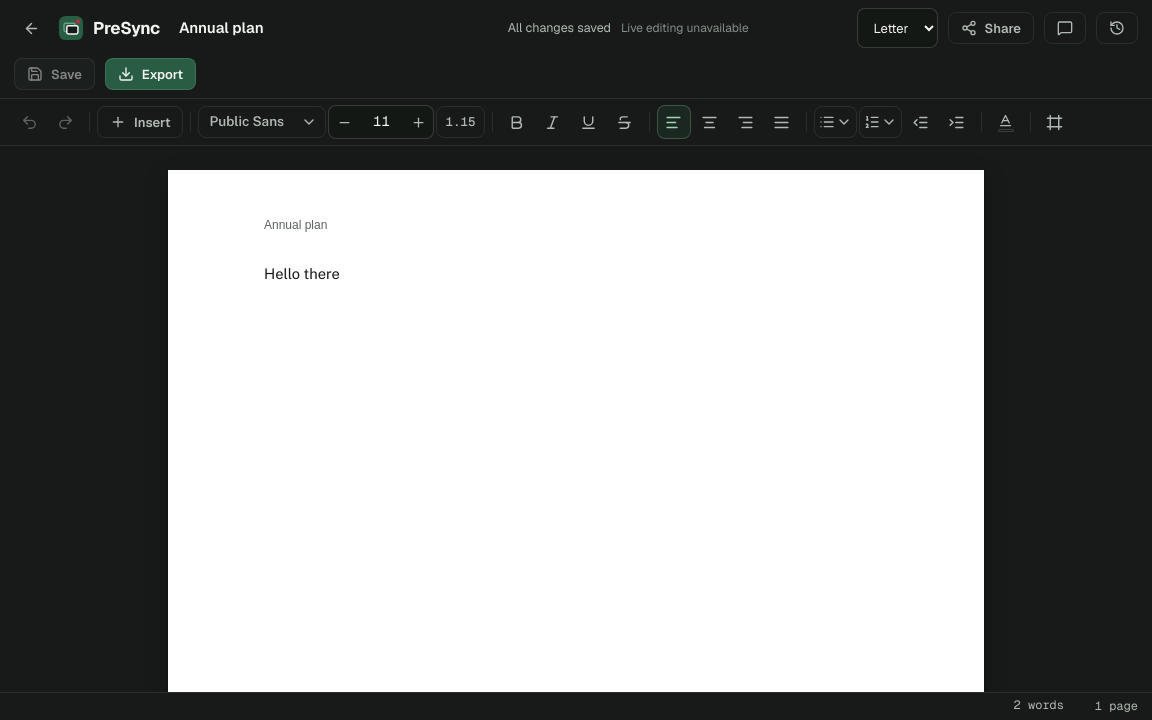
Test: DocumentEditorPage › opens the document with its title, toolbar and export menu
Expected: the field named "Document title" holds "Annual plan", [170, 10, 498, 46]
Expected: the button named "Bold" is shown, [500, 105, 534, 139]
Step 1. Click the button "Export" → (150, 74), box [105, 58, 196, 90]
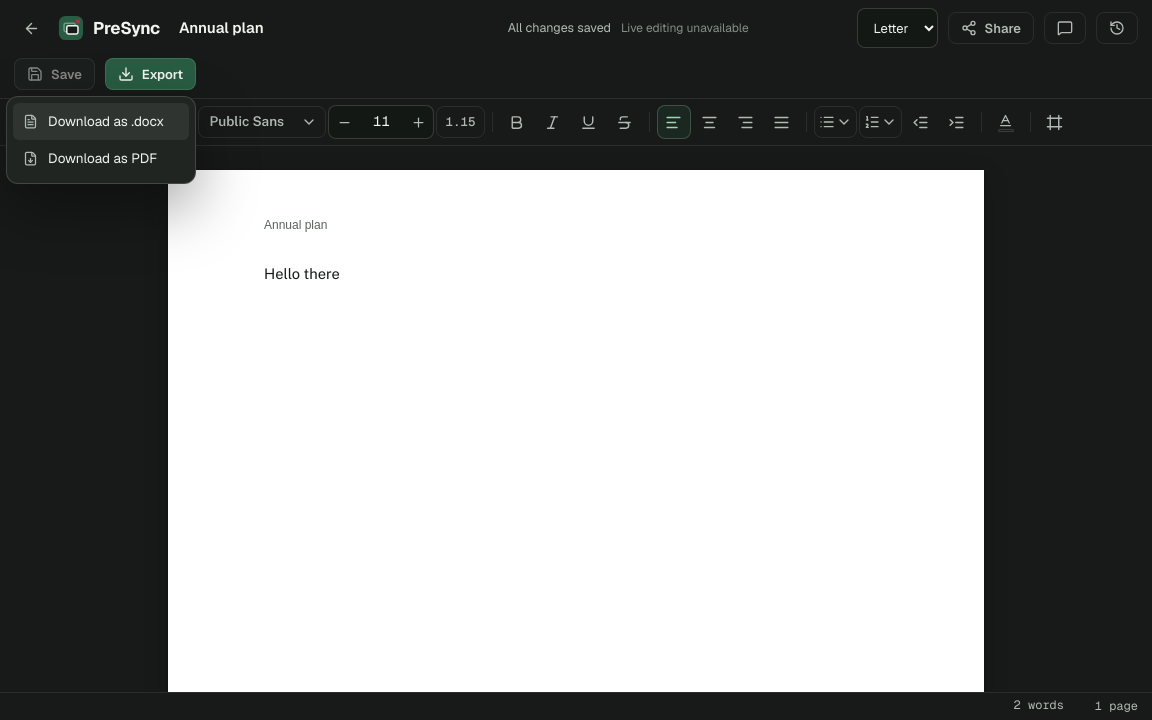
Result: the menu item "Download as .docx" is shown at [13, 103, 189, 140]
Result: the menu item "Download as PDF" is shown at [13, 140, 189, 177]
